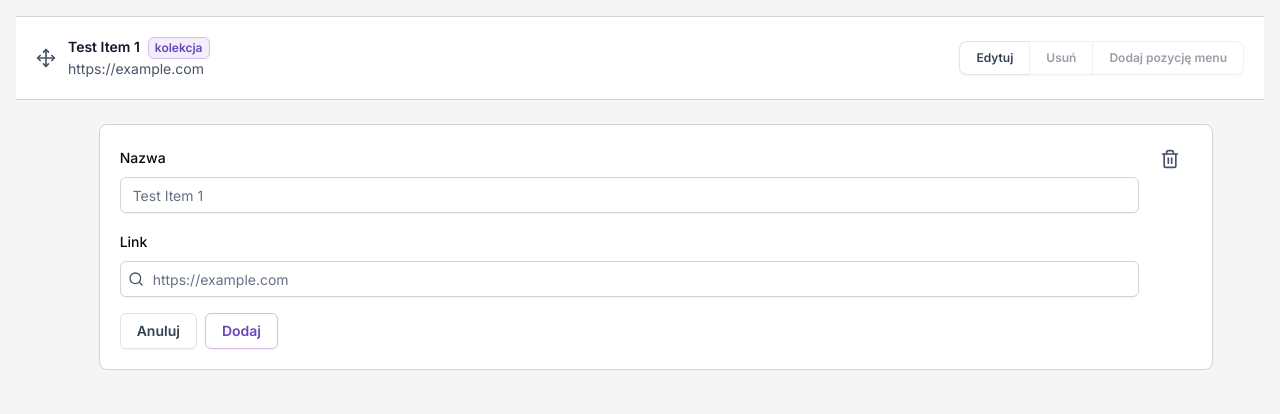
Test: NavigationItem › Walidacja formularzy › wyświetla błąd dla niepoprawnego URL
Replace the text in the field with placeholder "Wklej lub wyszukaj" with "invalid-url" at (629, 279), box [120,261,1139,297]
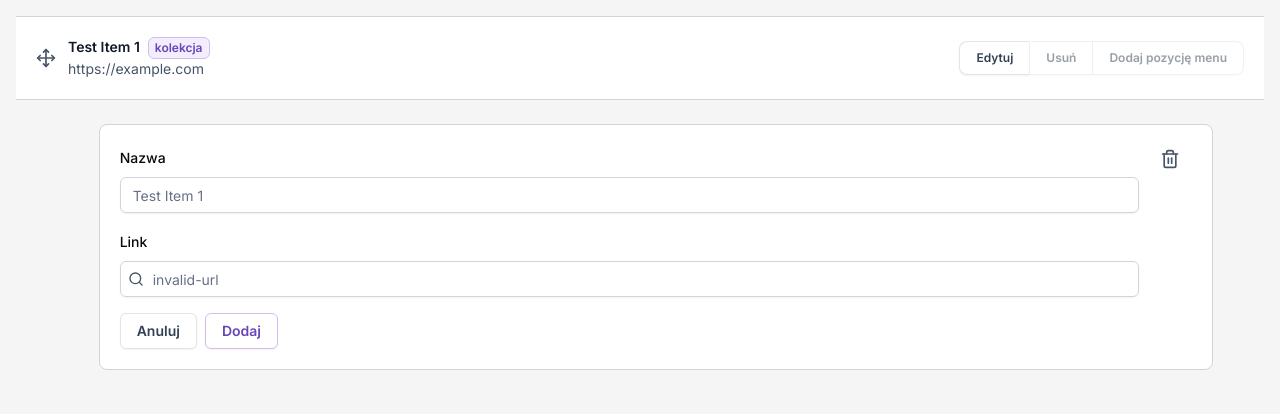
Submit the form, box [120,145,1139,349]
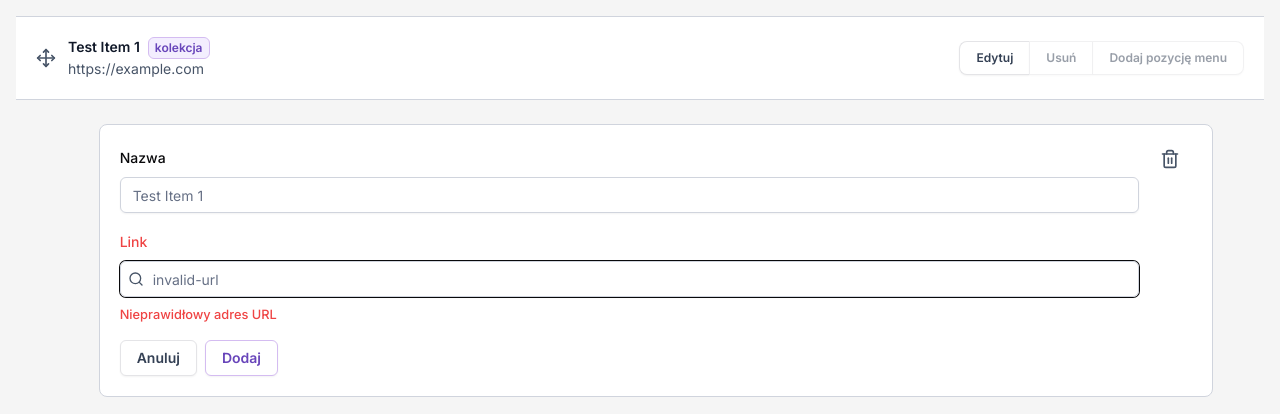
Now the text "Nieprawidłowy adres URL" is shown, box [120,307,277,322]
